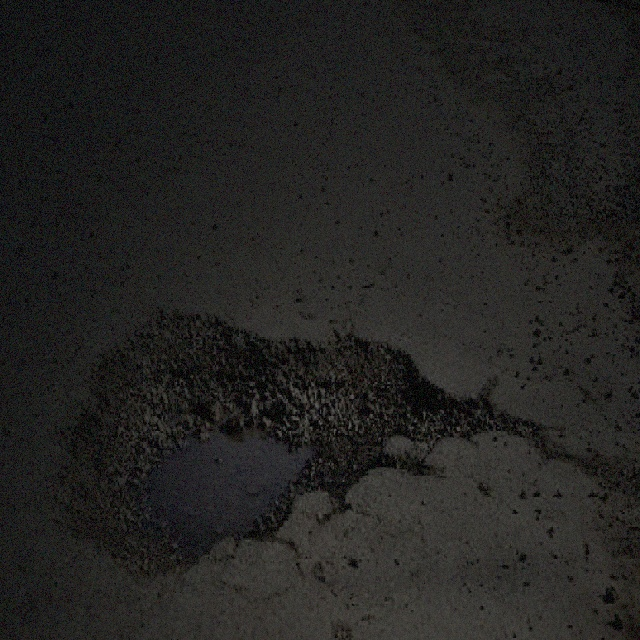pothole: (57, 303, 478, 576)
